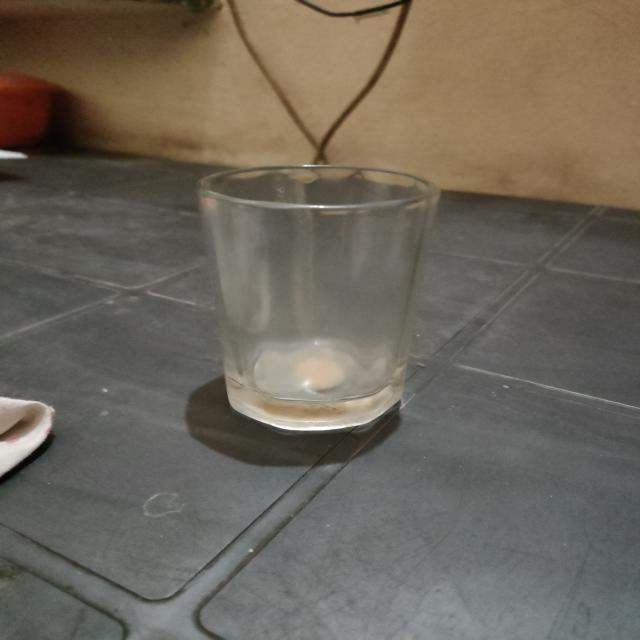Glass: (193, 161, 443, 433)
